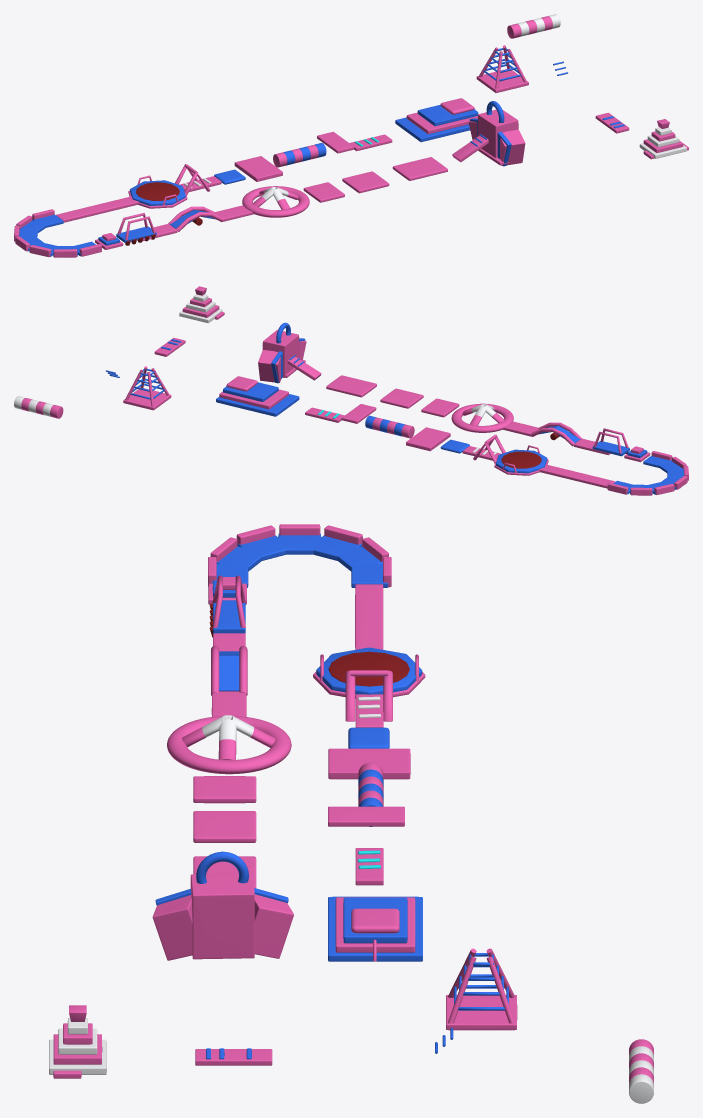
Rendered from level-one.fbx.
The picture shows the model from 3 angles, top to bottom: view 1: azimuth 30°, elevation 25°; view 2: azimuth 150°, elevation 25°; view 3: azimuth 270°, elevation 25°; orthographic projection. The views are drawn at different scales.
Visible parts, largest first — view 1: ArkaSag_Dev_Kule_Merkez, OnSag_Cark_Dis_Cember, OnSag_Giris_Baglanti_Minderi.002, Ic_Yol_Sol, Arka_Maya_Piramit_Kat_2.001, Arka_Maya_Piramit_Kat_3, ArkaSol_Kafes_Piramit_Taban, Arka_Maya_Piramit_Kat_1, ArkaSag_Dev_Kule_Kanat_Sag, Merkez_Trambolin_Yuzeyi, OnSag_Giris_Baglanti_Minderi.001, Arka_Maya_Piramit_Kat_2 (+4 smaller); view 2: ArkaSag_Dev_Kule_Merkez, OnSag_Cark_Dis_Cember, OnSag_Giris_Baglanti_Minderi.002, Ic_Yol_Sol, Arka_Maya_Piramit_Kat_1, Arka_Maya_Piramit_Kat_2.001, Arka_Maya_Piramit_Kat_3, ArkaSol_Kafes_Piramit_Taban, ArkaSag_Dev_Kule_Kanat_Sol, Merkez_Trambolin_Yuzeyi, Arka_Maya_Piramit_Kat_2, OnSag_Giris_Baglanti_Minderi.001 (+4 smaller); view 3: ArkaSag_Dev_Kule_Merkez, OnSag_Cark_Dis_Cember, Arka_Maya_Piramit_Kat_2.001, ArkaSag_Dev_Kule_Kanat_Sag, ArkaSol_Kafes_Piramit_Taban, OnSag_Giris_Baglanti_Minderi.001, ArkaSag_Dev_Kule_Kanat_Sol, Arka_Maya_Piramit_Kat_1, Arka_Maya_Piramit_Kat_3, Ic_Yol_Sol, Merkez_Trambolin_Yuzeyi, OnSag_Giris_Baglanti_Minderi (+9 smaller).
Boxes of the visible parts, x1,y1,x2,y2 form: ArkaSag_Dev_Kule_Merkez: [478, 109, 518, 157]; OnSag_Cark_Dis_Cember: [242, 186, 309, 217]; OnSag_Giris_Baglanti_Minderi.002: [392, 157, 447, 180]; Ic_Yol_Sol: [56, 196, 139, 222]; Arka_Maya_Piramit_Kat_2.001: [234, 156, 282, 181]; Arka_Maya_Piramit_Kat_3: [417, 104, 478, 126]; ArkaSol_Kafes_Piramit_Taban: [476, 69, 528, 92]; Arka_Maya_Piramit_Kat_1: [395, 117, 469, 142]; ArkaSag_Dev_Kule_Kanat_Sag: [500, 129, 525, 165]; Merkez_Trambolin_Yuzeyi: [136, 182, 179, 200]; OnSag_Giris_Baglanti_Minderi.001: [342, 171, 389, 193]; Arka_Maya_Piramit_Kat_2: [406, 112, 477, 134]; ArkaSag_Dev_Kule_Merkez: [262, 330, 299, 377]; OnSag_Cark_Dis_Cember: [451, 403, 513, 432]; OnSag_Giris_Baglanti_Minderi.002: [326, 375, 376, 397]; Ic_Yol_Sol: [538, 464, 615, 488]; Arka_Maya_Piramit_Kat_1: [216, 394, 299, 416]; Arka_Maya_Piramit_Kat_2.001: [406, 427, 450, 451]; Arka_Maya_Piramit_Kat_3: [223, 382, 278, 401]; ArkaSol_Kafes_Piramit_Taban: [123, 388, 171, 410]; ArkaSag_Dev_Kule_Kanat_Sol: [258, 350, 280, 382]; Merkez_Trambolin_Yuzeyi: [501, 451, 541, 468]; Arka_Maya_Piramit_Kat_2: [219, 389, 288, 409]; OnSag_Giris_Baglanti_Minderi.001: [380, 388, 423, 408]; ArkaSag_Dev_Kule_Merkez: [190, 873, 254, 959]; OnSag_Cark_Dis_Cember: [167, 716, 291, 774]; Arka_Maya_Piramit_Kat_2.001: [328, 748, 410, 779]; ArkaSag_Dev_Kule_Kanat_Sag: [152, 895, 202, 960]; ArkaSol_Kafes_Piramit_Taban: [446, 995, 517, 1030]; OnSag_Giris_Baglanti_Minderi.001: [193, 811, 256, 842]; ArkaSag_Dev_Kule_Kanat_Sol: [244, 894, 293, 958]; Arka_Maya_Piramit_Kat_1: [328, 896, 422, 961]; Arka_Maya_Piramit_Kat_3: [343, 897, 407, 943]; Ic_Yol_Sol: [355, 584, 383, 649]; Merkez_Trambolin_Yuzeyi: [328, 651, 409, 686]; OnSag_Giris_Baglanti_Minderi: [193, 776, 256, 803].
Size of what is drawn, in the model's own units: 9035 by 743 by 4078.
